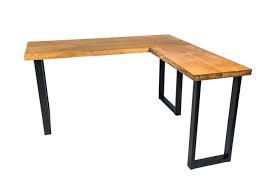desk: (18, 15, 247, 176)
